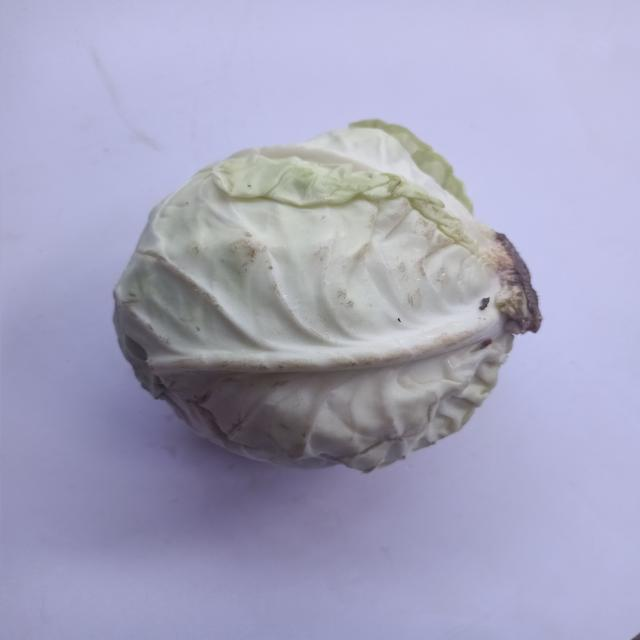Cabbage: (114, 108, 546, 490)
